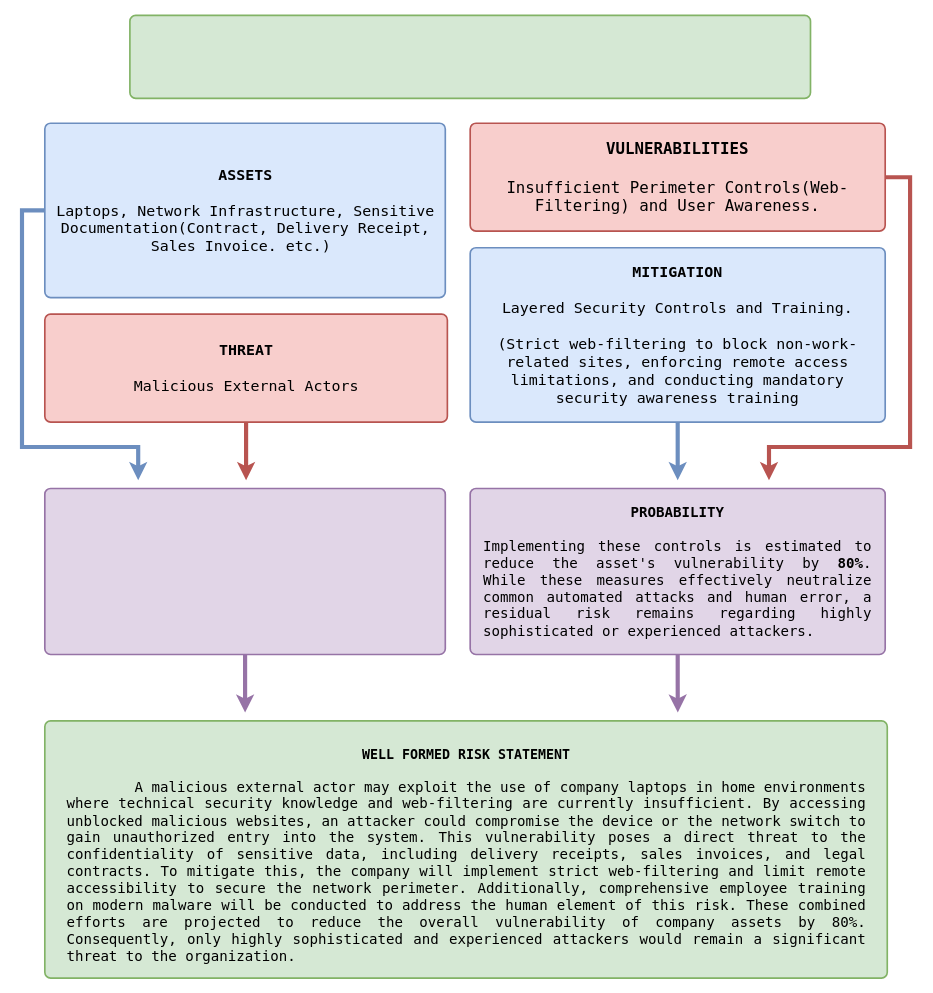
This 933x993 diagram has some shape labels left out. The shapes that lost their labels are listed below. From the top down, each one's centre as x and y in pixels, then its label:
point 470,56: AUTOMATED TECHNOLOGIES INC. PROJECT MANAGEMENT OFFICE
point 245,571: IMPACT Confidentiality Breach and Information Leakage.
